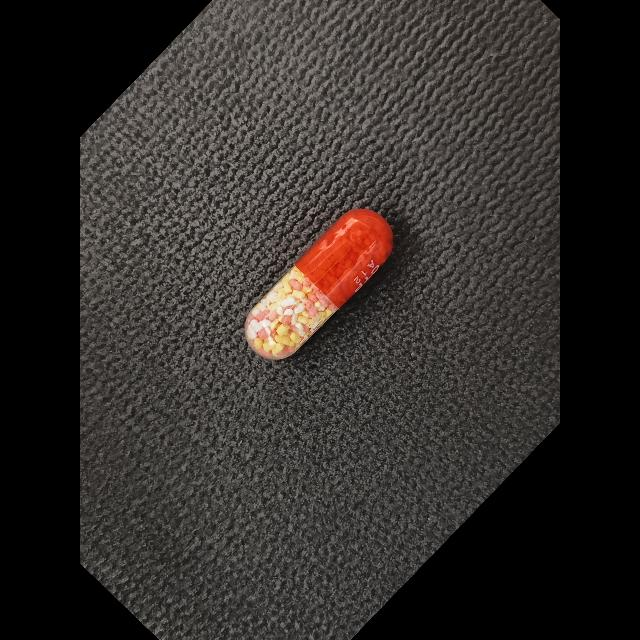Intact Capsule: (244, 208, 393, 360)
